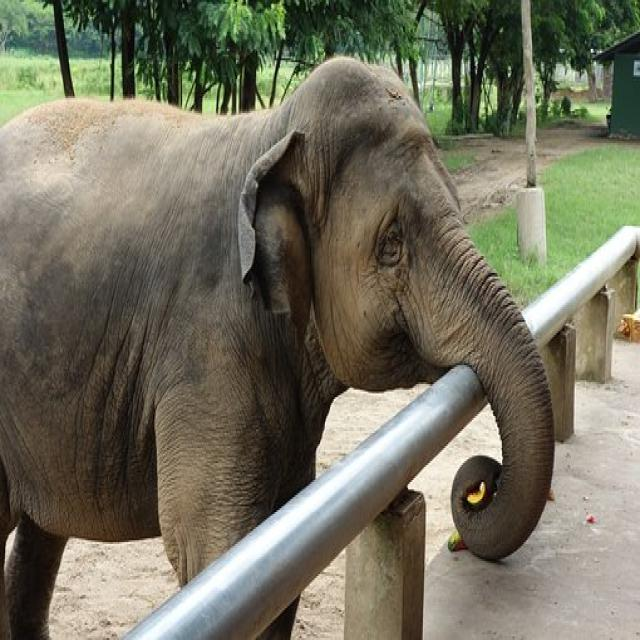Elephant: (2, 59, 580, 628)
